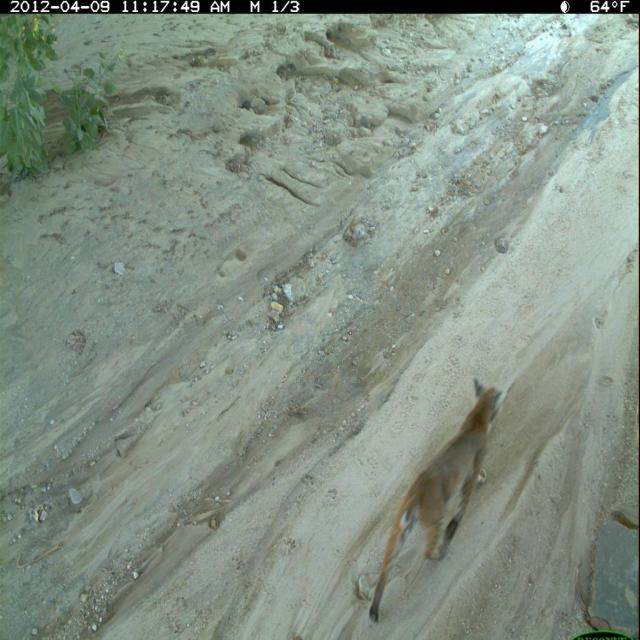bobcat: (366, 373, 509, 631)
